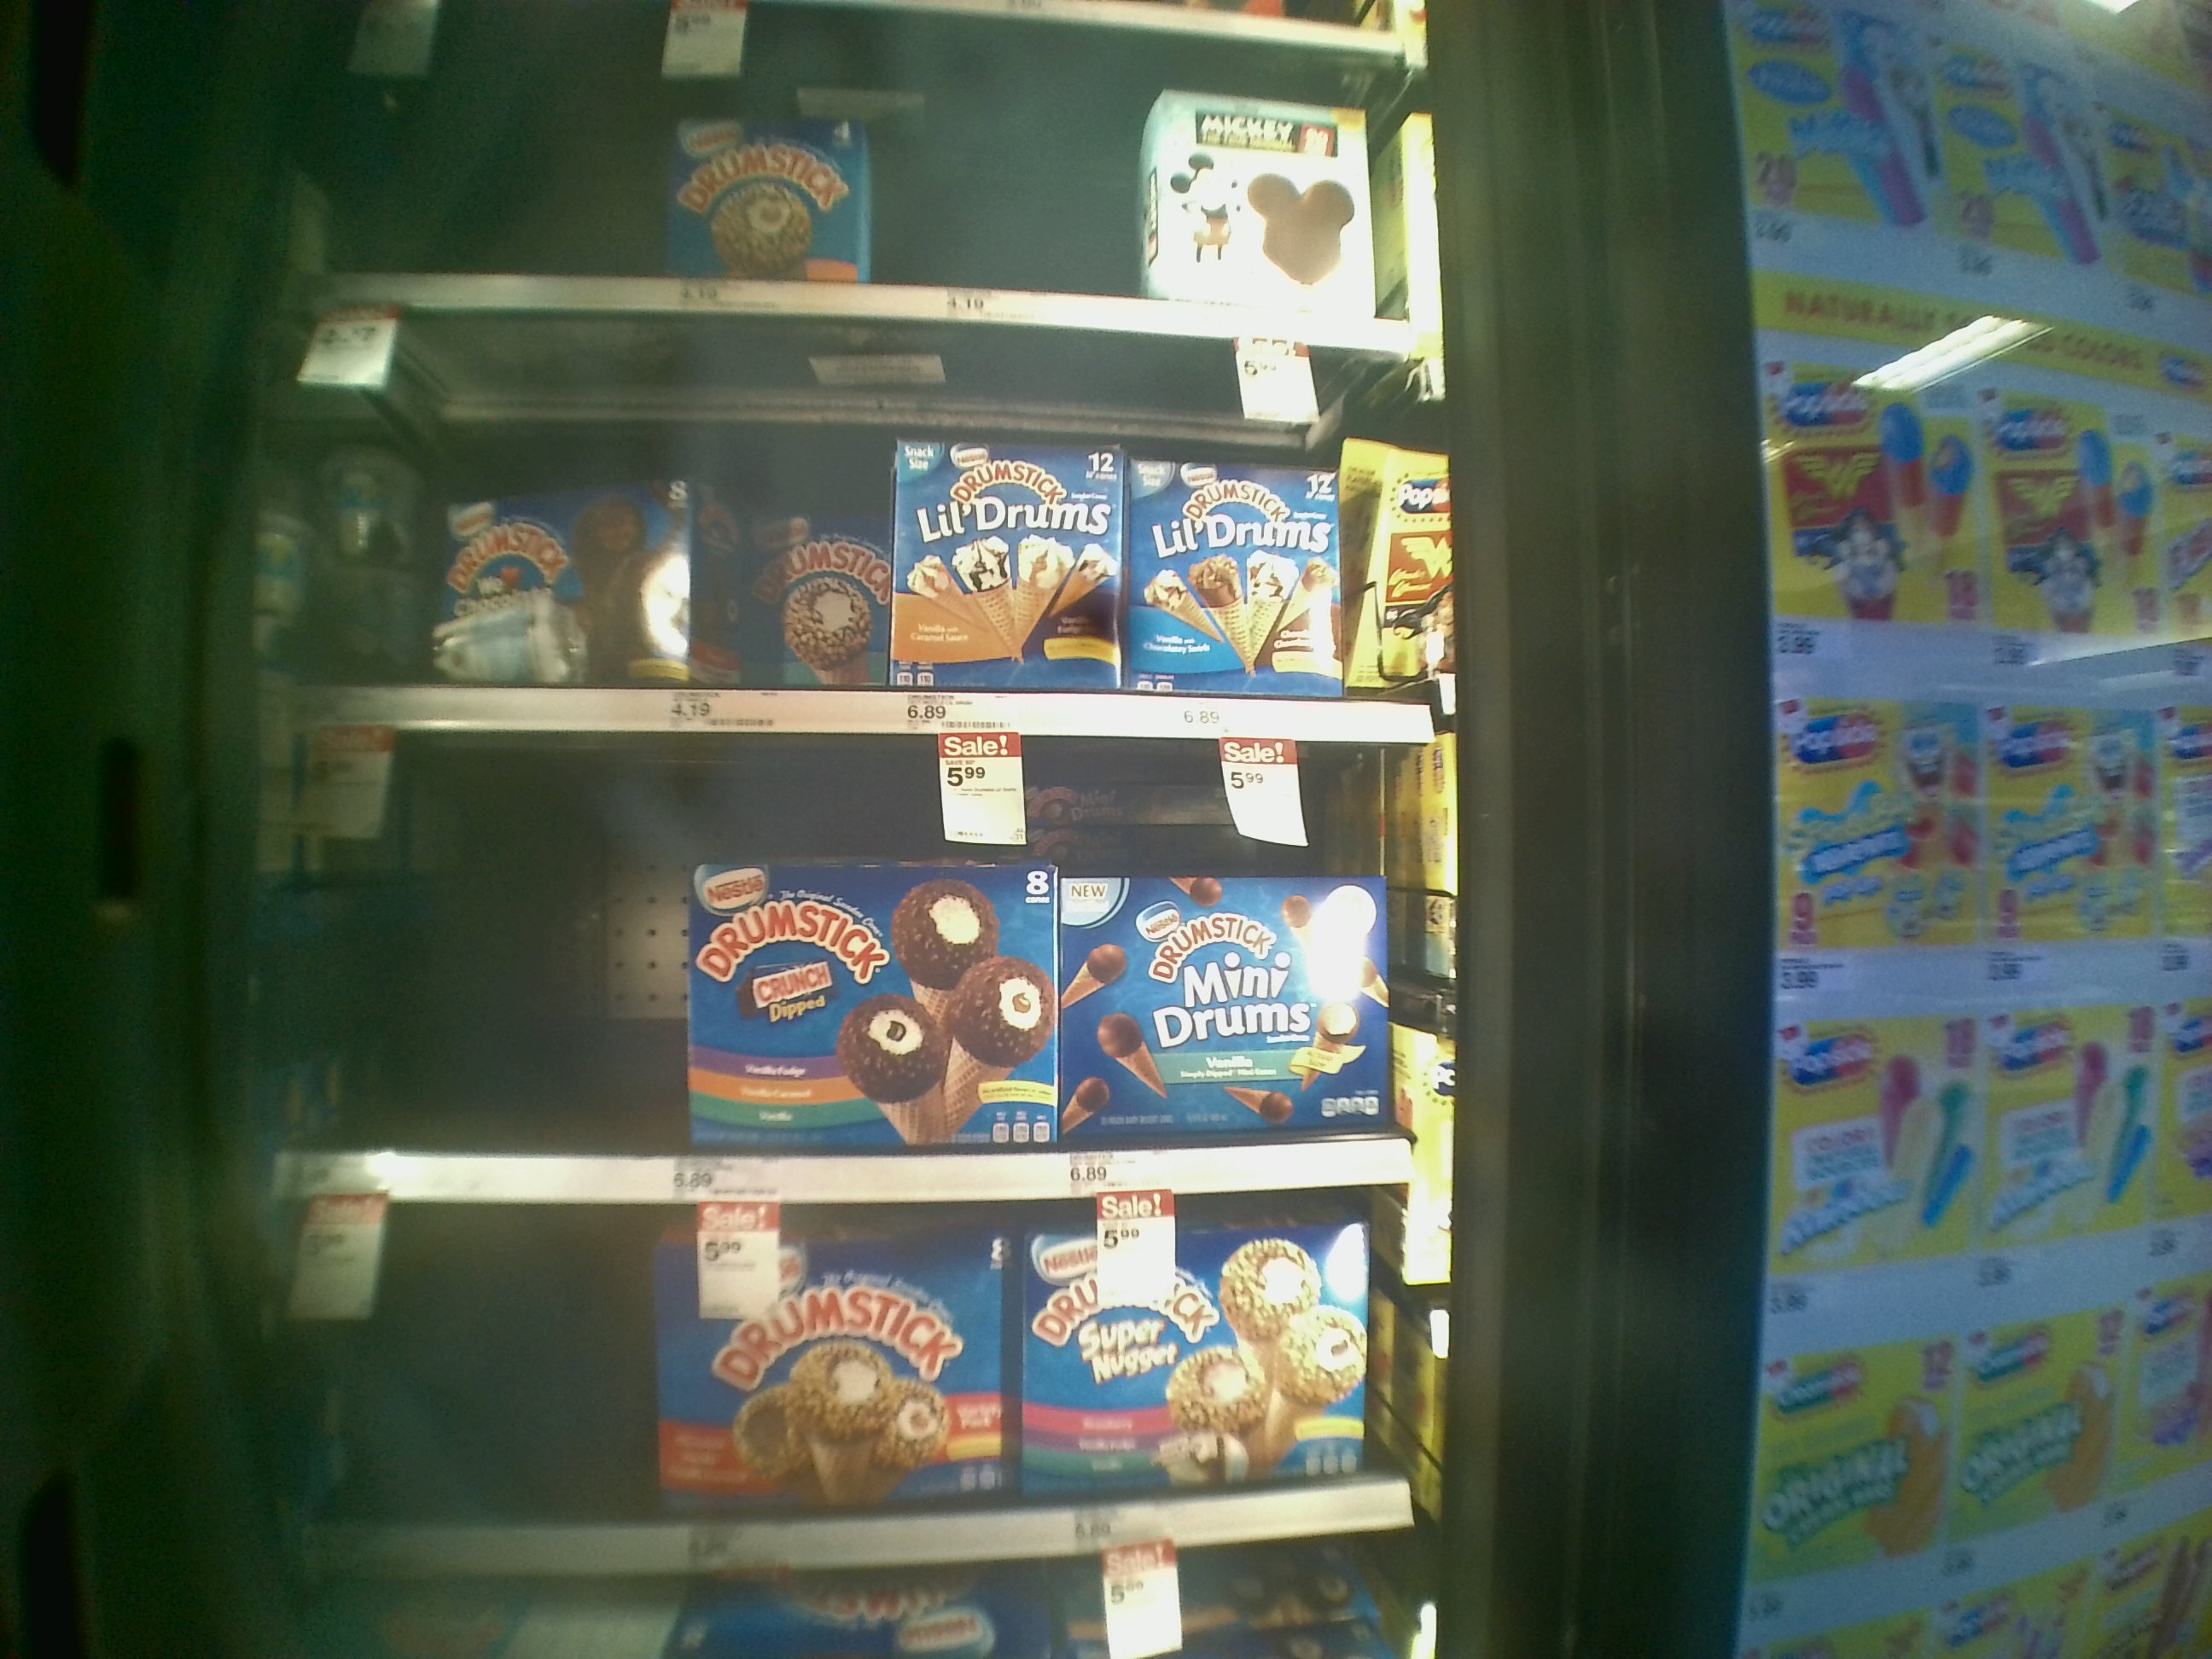shelf: (319, 742, 1420, 1201), (324, 319, 1411, 737), (315, 1190, 1420, 1561)
